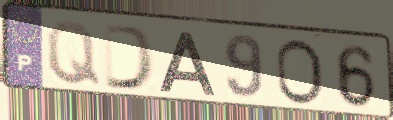6: (333, 42, 379, 111)
9: (221, 32, 265, 104)
A: (157, 29, 218, 98)
D: (102, 22, 158, 93)
O: (273, 37, 326, 107)
Q: (44, 19, 103, 88)
